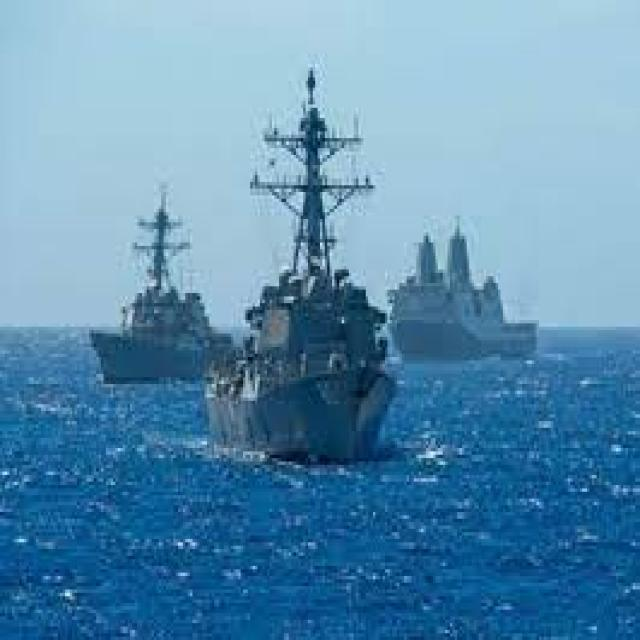navalvessels: (207, 78, 399, 478), (86, 177, 216, 382), (387, 197, 542, 350)
